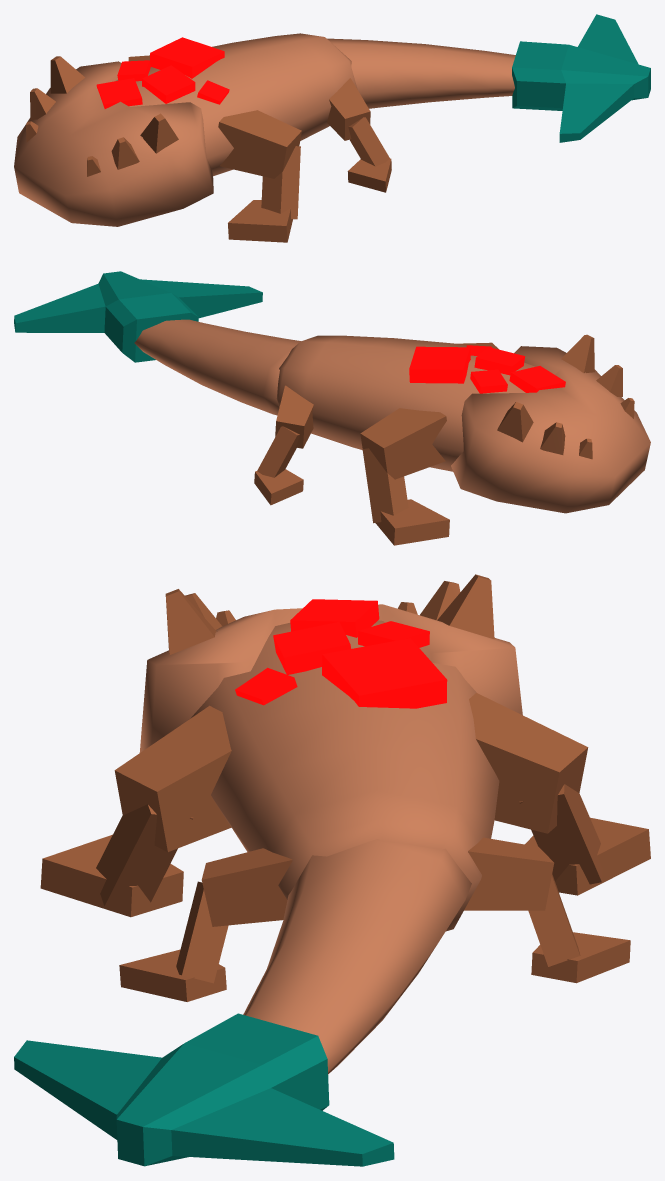
Rendered from SM_HorseShoeLizard.fbx.
3 renders of one model, top to bottom at view 1: azimuth 30°, elevation 25°; view 2: azimuth 150°, elevation 25°; view 3: azimuth 270°, elevation 25°, orthographic. The views are drawn at different scales.
Visible parts, largest first — view 1: Lizard; view 2: Lizard; view 3: Lizard.
Part boxes in pixels (x1=…): Lizard: x1=14, y1=14, x2=650, y2=242; Lizard: x1=14, y1=271, x2=650, y2=545; Lizard: x1=14, y1=574, x2=650, y2=1166.
Bounding box in the file's own units: 2.18 × 0.4445 × 1.13.
2 materials, 1 textured.
